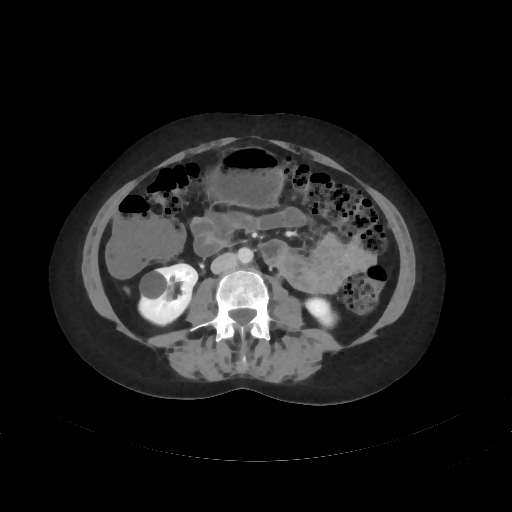Lesion: (133, 270, 169, 301)
